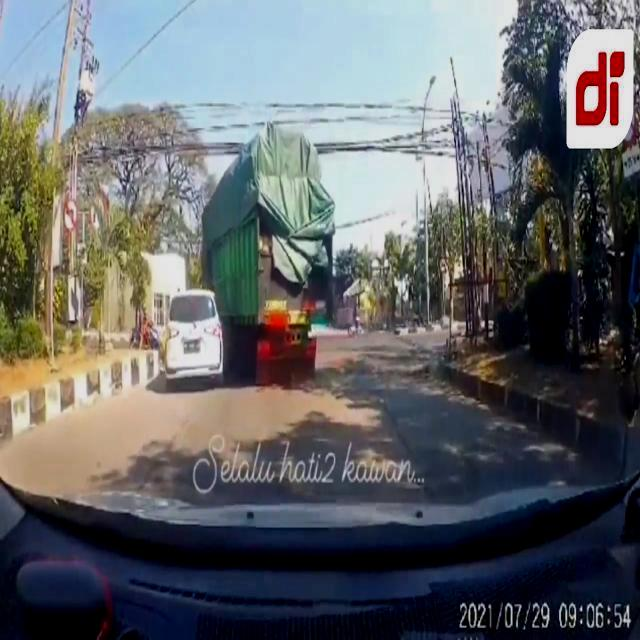accident: (158, 121, 336, 392)
